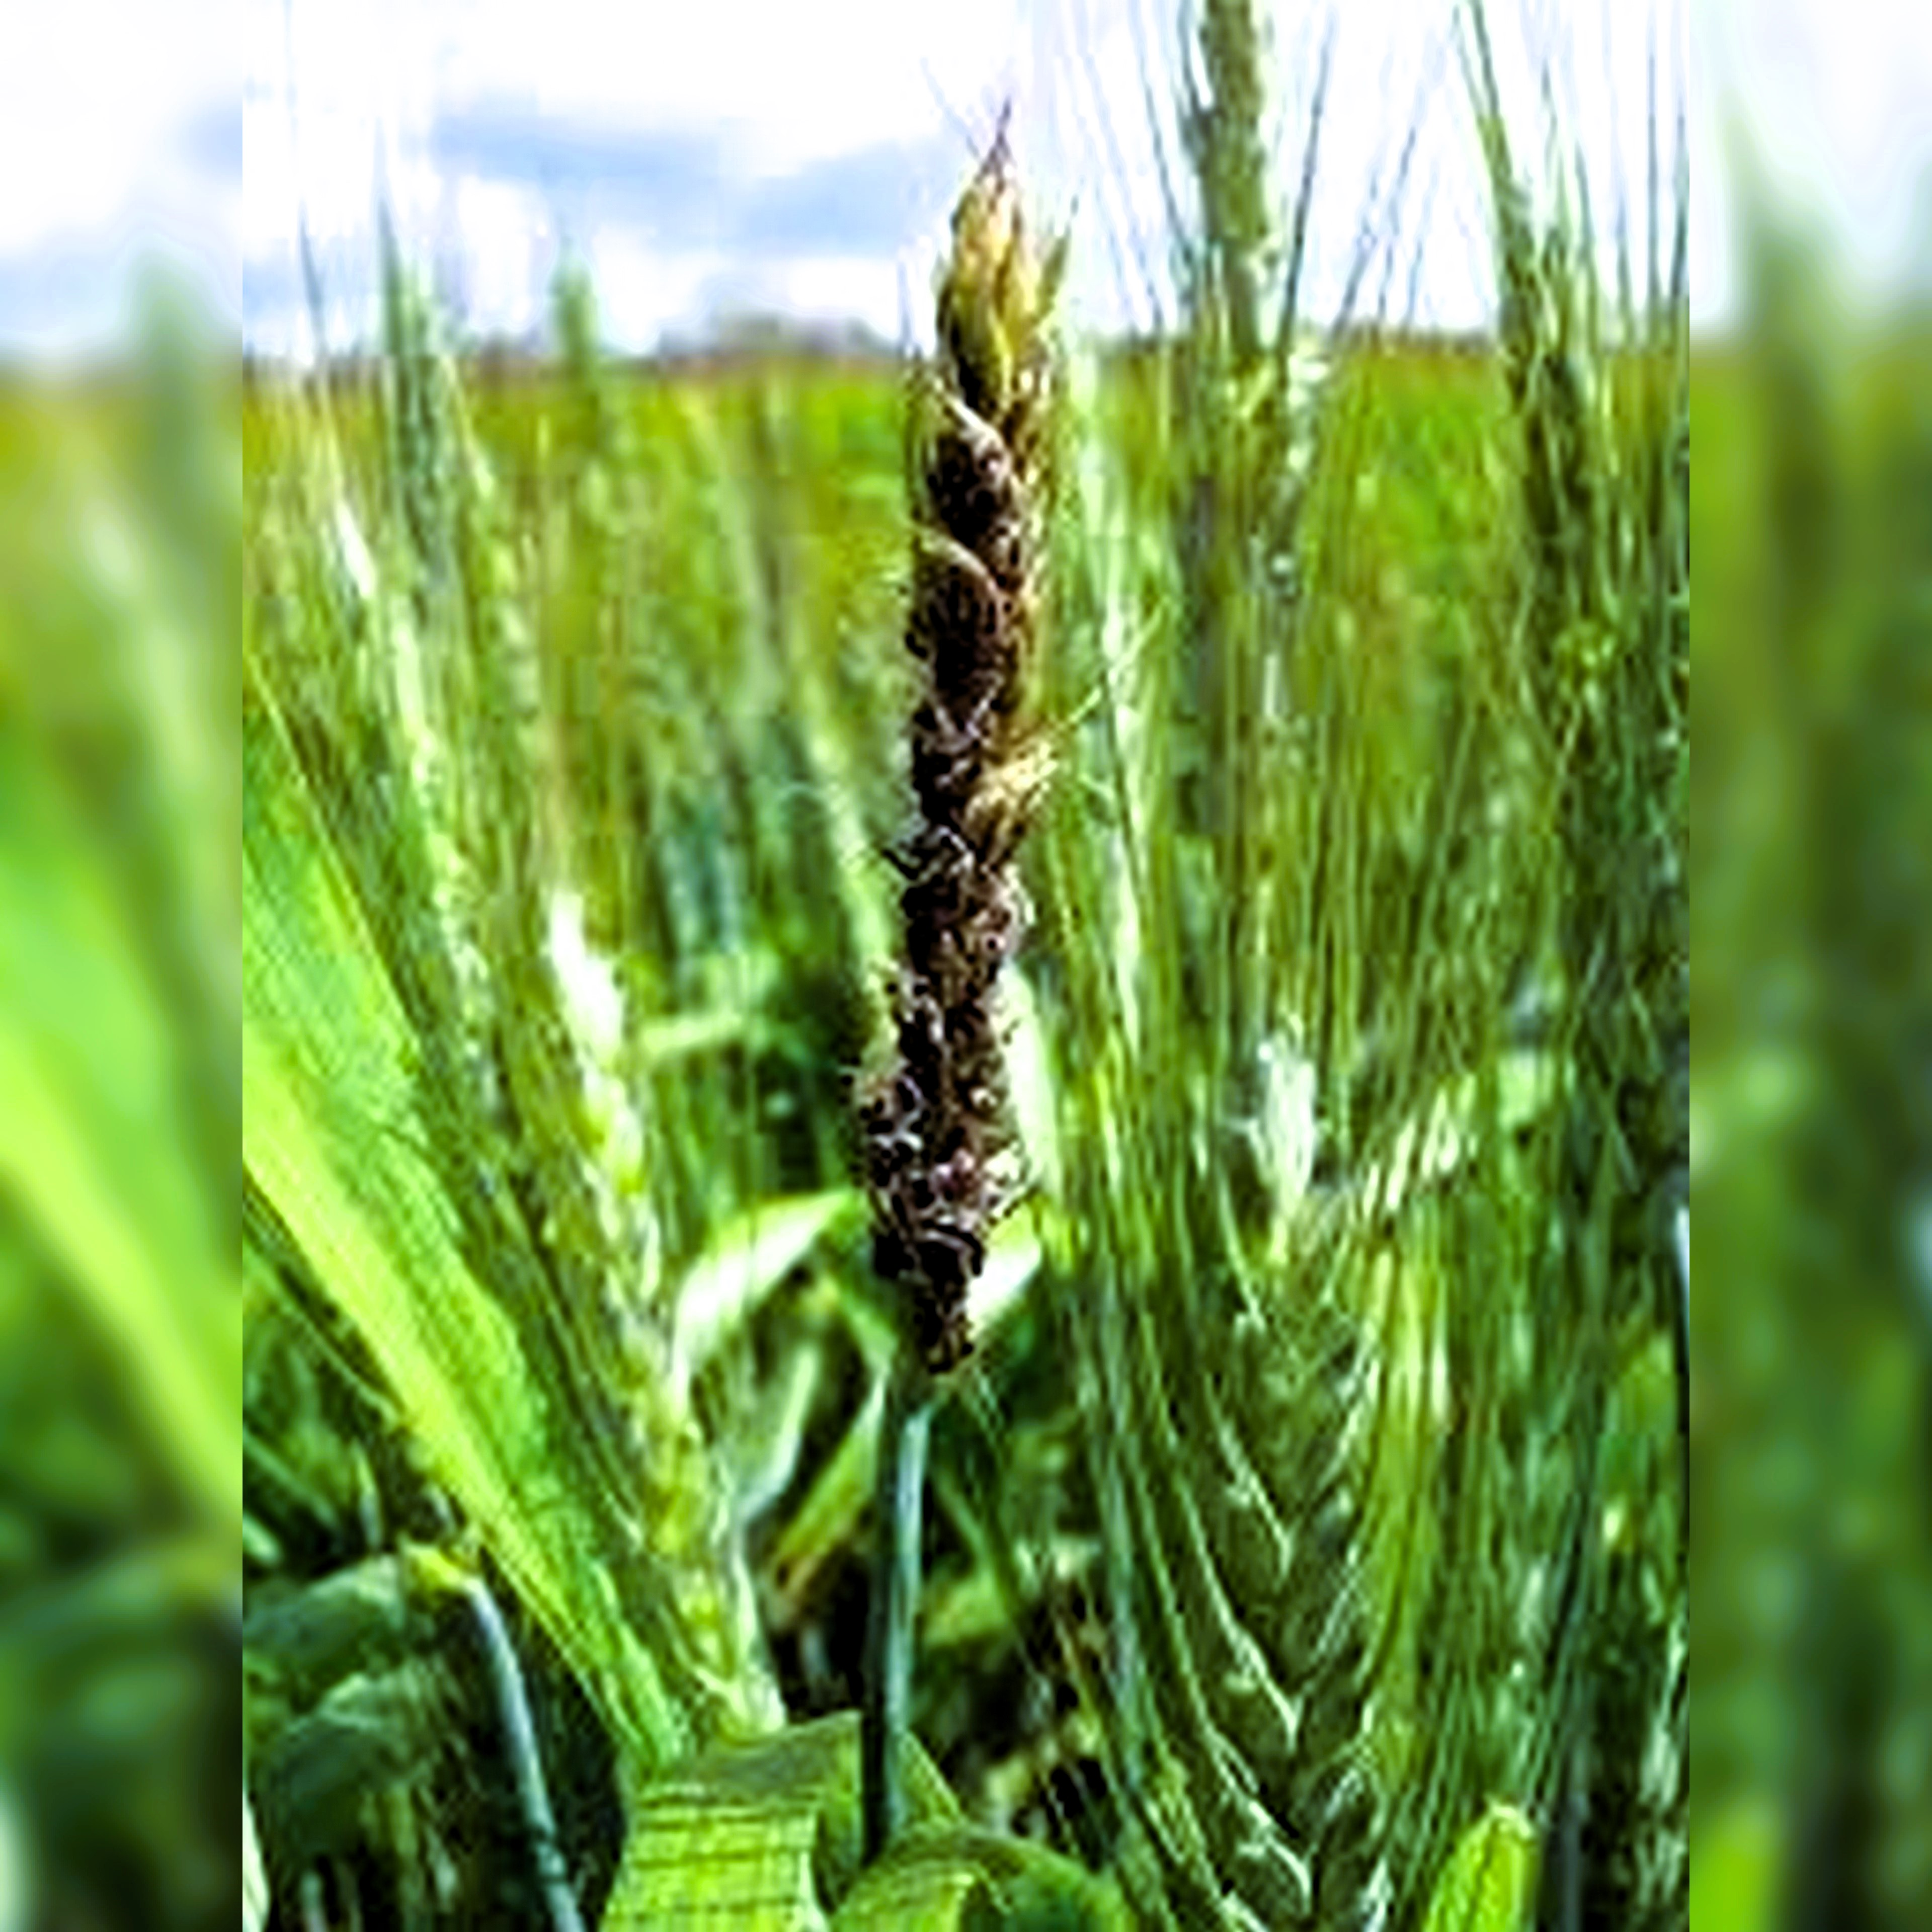Wheat Loose Smut: (805, 396, 1138, 1309)
